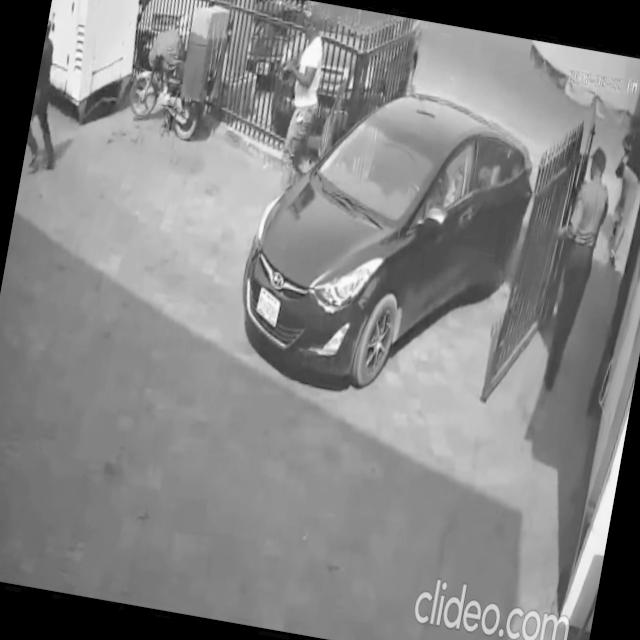gun: (270, 56, 301, 80)
person: (530, 138, 620, 396), (597, 125, 640, 274)
person with a gun: (249, 3, 346, 205)
